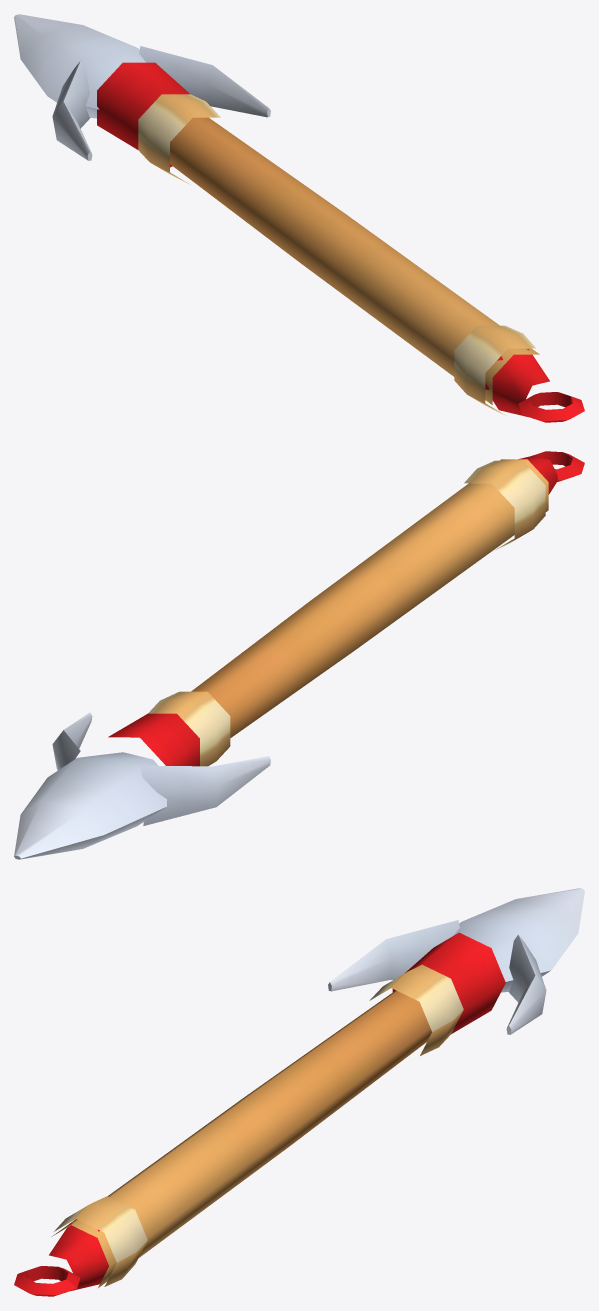
Rendered from harpoon.glb.
The picture shows the model from 3 angles, top to bottom: view 1: azimuth 30°, elevation 25°; view 2: azimuth 150°, elevation 25°; view 3: azimuth 330°, elevation 25°; orthographic projection.
Parts seen in each view (by area): view 1: Harpoon; view 2: Harpoon; view 3: Harpoon.
Boxes of the visible parts, x1,y1,x2,y2 form: Harpoon: [14, 14, 584, 422]; Harpoon: [14, 451, 584, 859]; Harpoon: [14, 888, 584, 1296].
Bounding box in the file's own units: 0.3074 × 0.1248 × 1.6.
2 materials, 2 textured.
